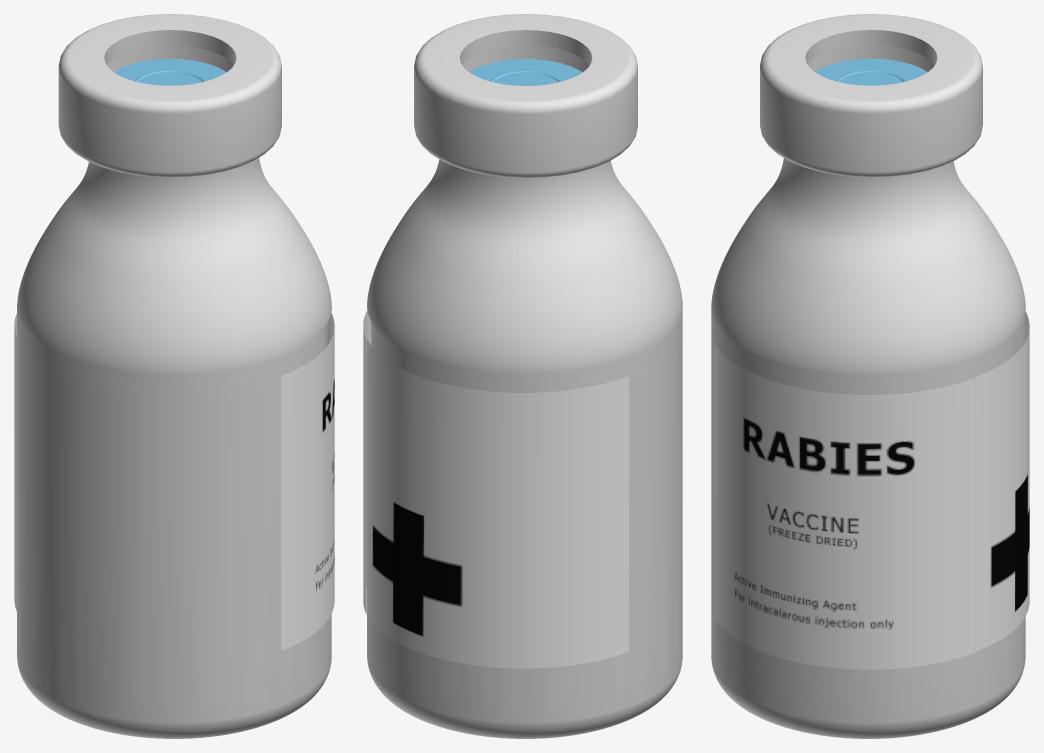
The model's file is rabies_vial.fbx.
The picture shows the model from 3 angles, left to right: view 1: azimuth 30°, elevation 25°; view 2: azimuth 150°, elevation 25°; view 3: azimuth 270°, elevation 25°; orthographic projection.
Visible parts, largest first — view 1: vial_vaccine, vial_vacc_label, vial_vacc_label2; view 2: vial_vaccine, vial_vacc_label2, vial_vacc_label; view 3: vial_vaccine, vial_vacc_label, vial_vacc_label2.
Boxes of the visible parts, x1=… form: vial_vaccine: x1=17, y1=14, x2=331, y2=738; vial_vacc_label: x1=281, y1=313, x2=334, y2=650; vial_vacc_label2: x1=14, y1=313, x2=17, y2=612; vial_vaccine: x1=367, y1=14, x2=682, y2=738; vial_vacc_label2: x1=367, y1=339, x2=628, y2=668; vial_vacc_label: x1=363, y1=310, x2=371, y2=614; vial_vaccine: x1=711, y1=14, x2=1025, y2=738; vial_vacc_label: x1=714, y1=342, x2=975, y2=669; vial_vacc_label2: x1=975, y1=312, x2=1029, y2=651.
Bounding box in the file's own units: 241 × 522 × 241.
Materials: 6 (2 with a texture image).
